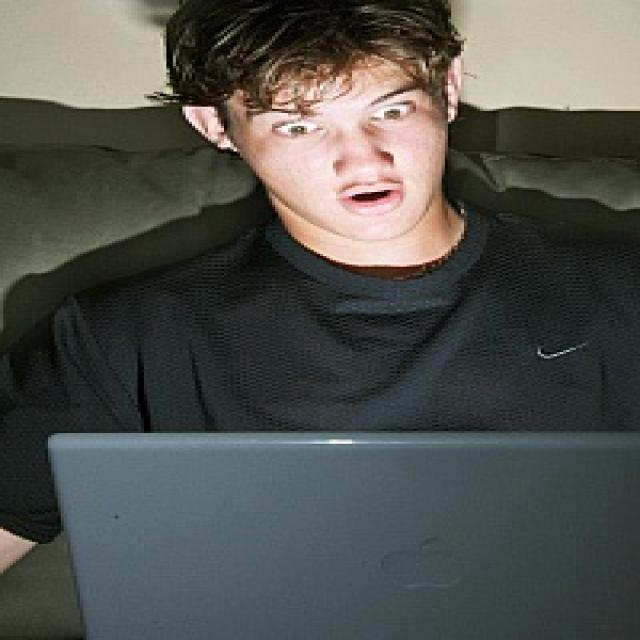Eyes: (250, 92, 423, 144)
